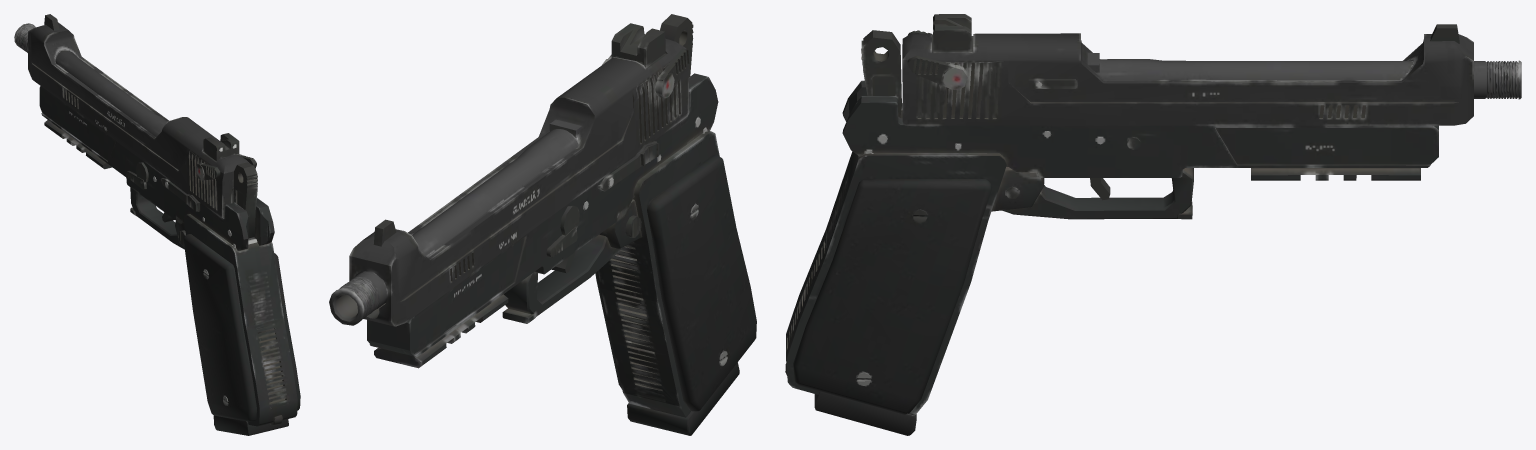
The model's file is pistola_guardia_9mm_preta_leve.glb.
3 views of the same model, side by side, from view 1: azimuth 30°, elevation 25°; view 2: azimuth 150°, elevation 25°; view 3: azimuth 270°, elevation 25° (orthographic). The views are drawn at different scales.
Parts seen in each view (by area): view 1: pistola_guardia_9mm_preta_leve; view 2: pistola_guardia_9mm_preta_leve; view 3: pistola_guardia_9mm_preta_leve.
Boxes of the visible parts, <box> form: pistola_guardia_9mm_preta_leve: <box>14,14,300,435</box>; pistola_guardia_9mm_preta_leve: <box>329,14,756,435</box>; pistola_guardia_9mm_preta_leve: <box>785,14,1521,435</box>.
Bounding box in the file's own units: 0.0322 × 0.1582 × 0.2639.
Materials: 1 (1 with a texture image).
